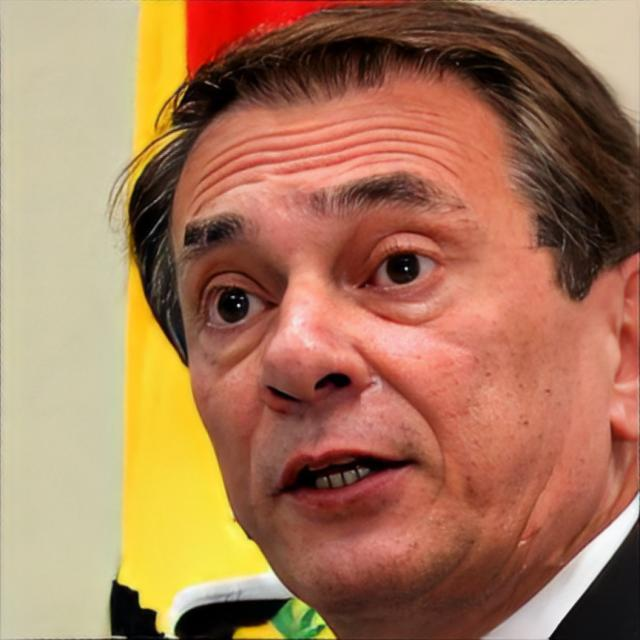surprise: (169, 75, 583, 614)
